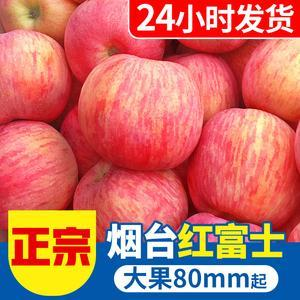apple: (77, 52, 212, 172), (185, 107, 300, 224), (65, 1, 169, 85), (71, 162, 188, 236), (1, 119, 78, 212), (1, 28, 71, 123), (241, 39, 299, 123), (1, 1, 78, 44)
